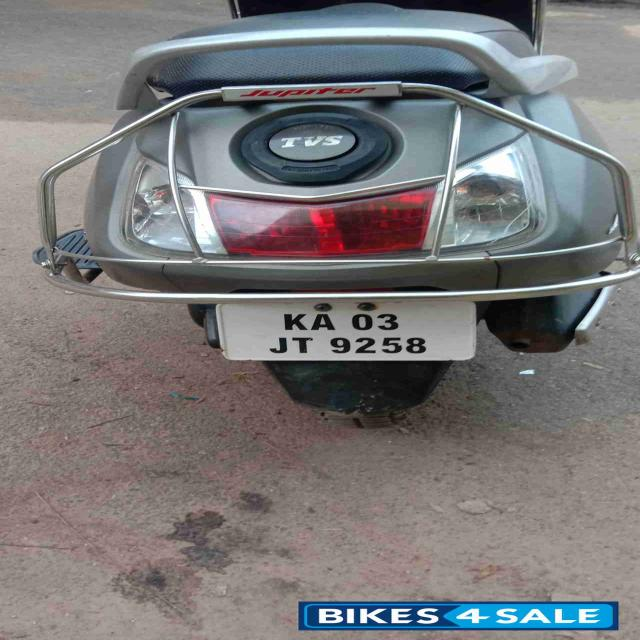number plate: (212, 298, 478, 362)
